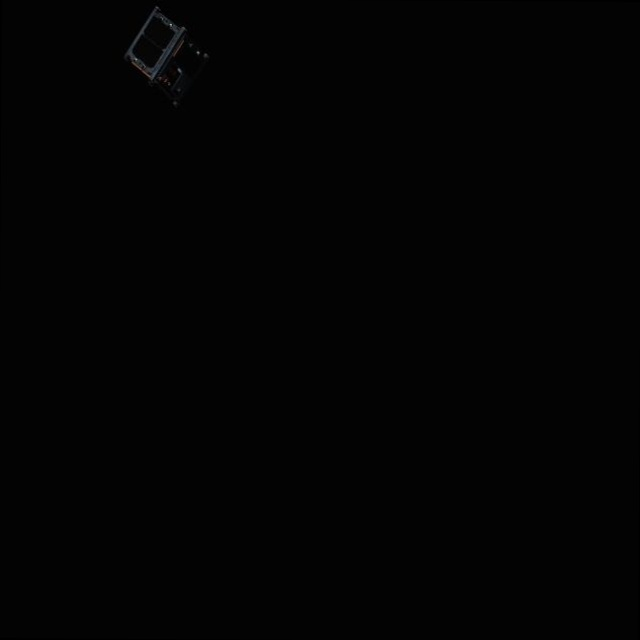satellite: (122, 3, 214, 107)
